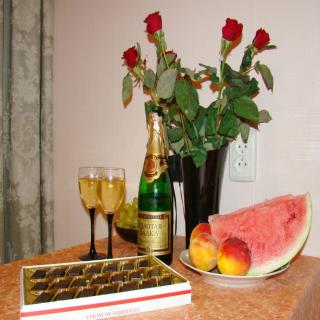Peach: (218, 237, 252, 275), (189, 232, 219, 272), (190, 222, 212, 243)
Watermelon: (208, 191, 311, 276)
